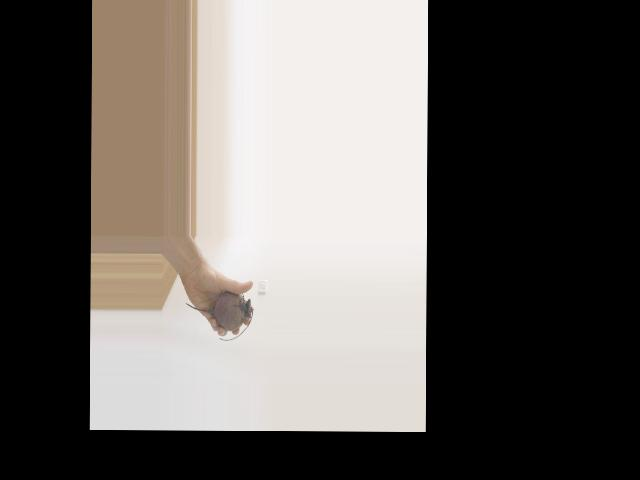beet: (185, 292, 253, 341)
